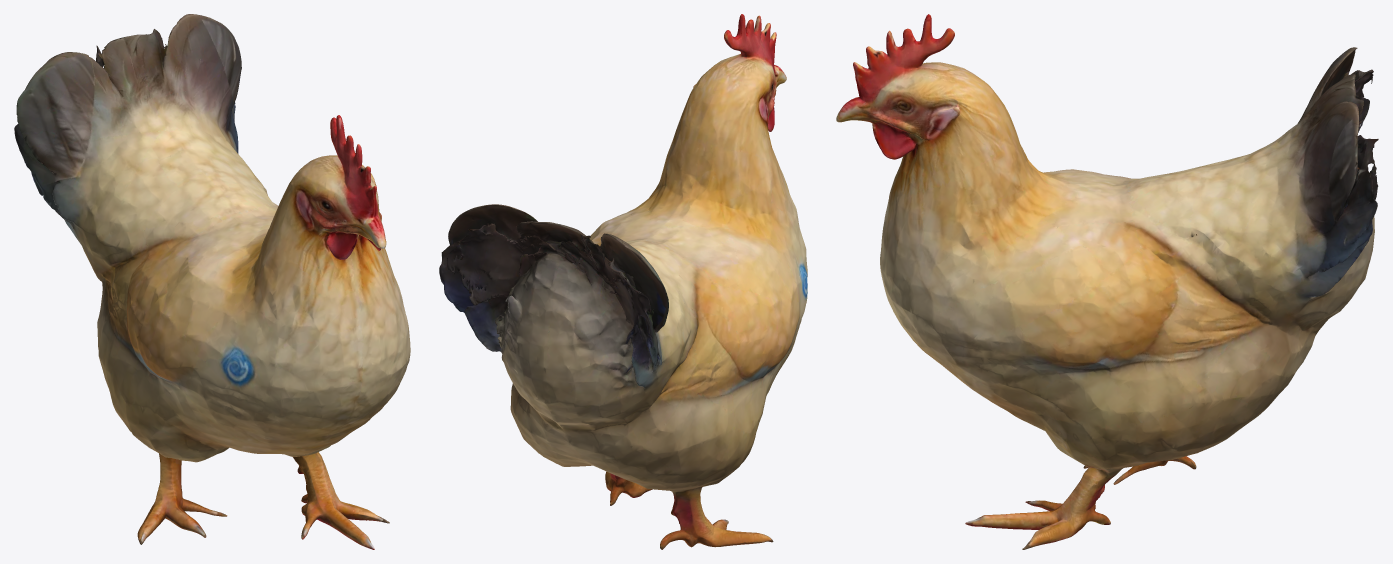
The model's file is chicken.glb.
3 renders of one model, left to right at view 1: azimuth 30°, elevation 25°; view 2: azimuth 150°, elevation 25°; view 3: azimuth 270°, elevation 25°, orthographic. The views are drawn at different scales.
Size of the model in its own units: 1.03 by 1.96 by 1.98.
Materials: 1 (1 with a texture image).
